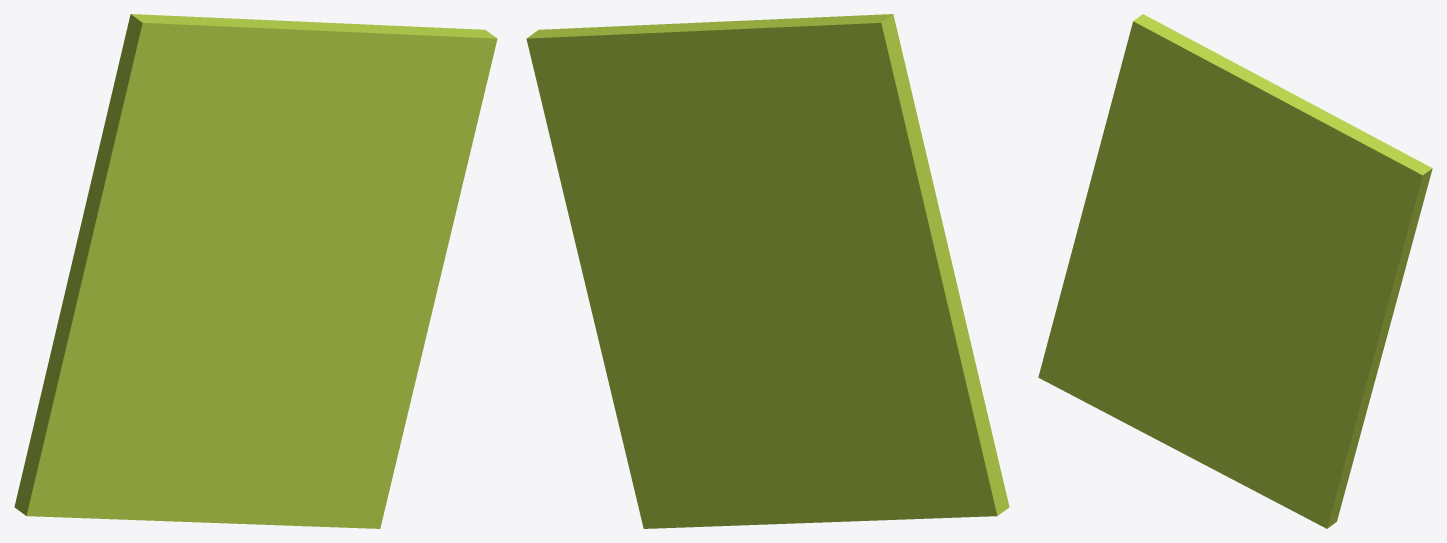
3 renders of one model, left to right at view 1: azimuth 30°, elevation 25°; view 2: azimuth 150°, elevation 25°; view 3: azimuth 330°, elevation 25°, orthographic. The views are drawn at different scales.
Visible parts, largest first — view 1: osm-way27917482-F2; view 2: osm-way27917482-F2; view 3: osm-way27917482-F2.
Part boxes in pixels (bbox=[...]): osm-way27917482-F2: bbox=[14, 14, 497, 528]; osm-way27917482-F2: bbox=[526, 14, 1009, 528]; osm-way27917482-F2: bbox=[1038, 14, 1432, 528].
Bounding box in the file's own units: 3.37 × 3.86 × 0.15.
